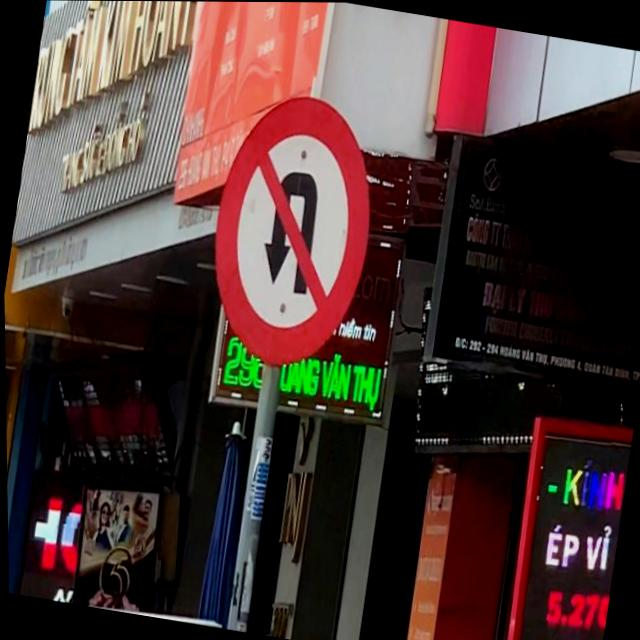Cam quay dau xe: (194, 84, 387, 378)
